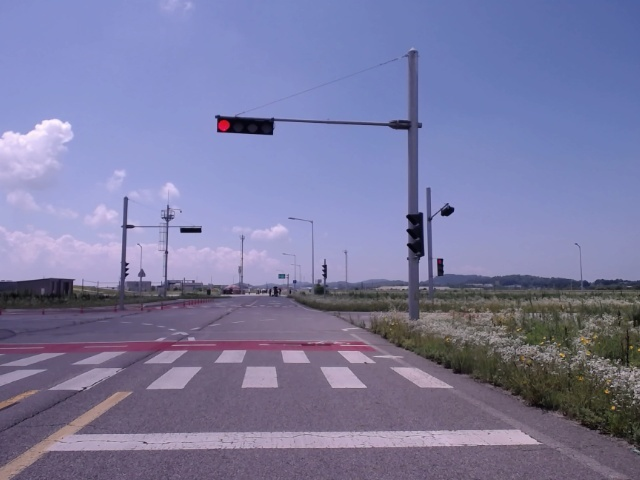red_4: (217, 115, 273, 135)
